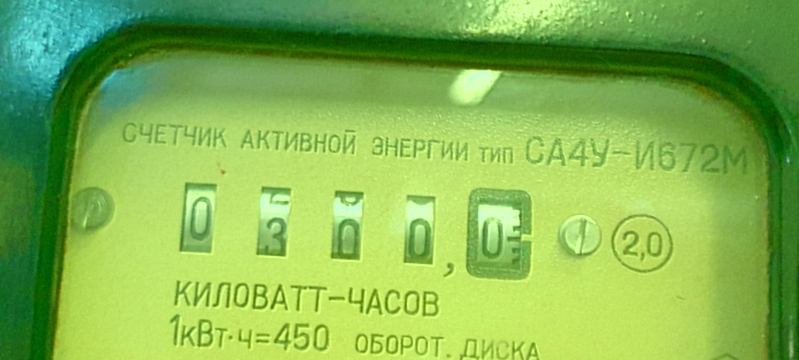0: (477, 213, 507, 263), (403, 216, 434, 263), (186, 192, 214, 244), (332, 214, 361, 263)
3: (259, 213, 290, 258)
screen: (157, 165, 543, 290)
